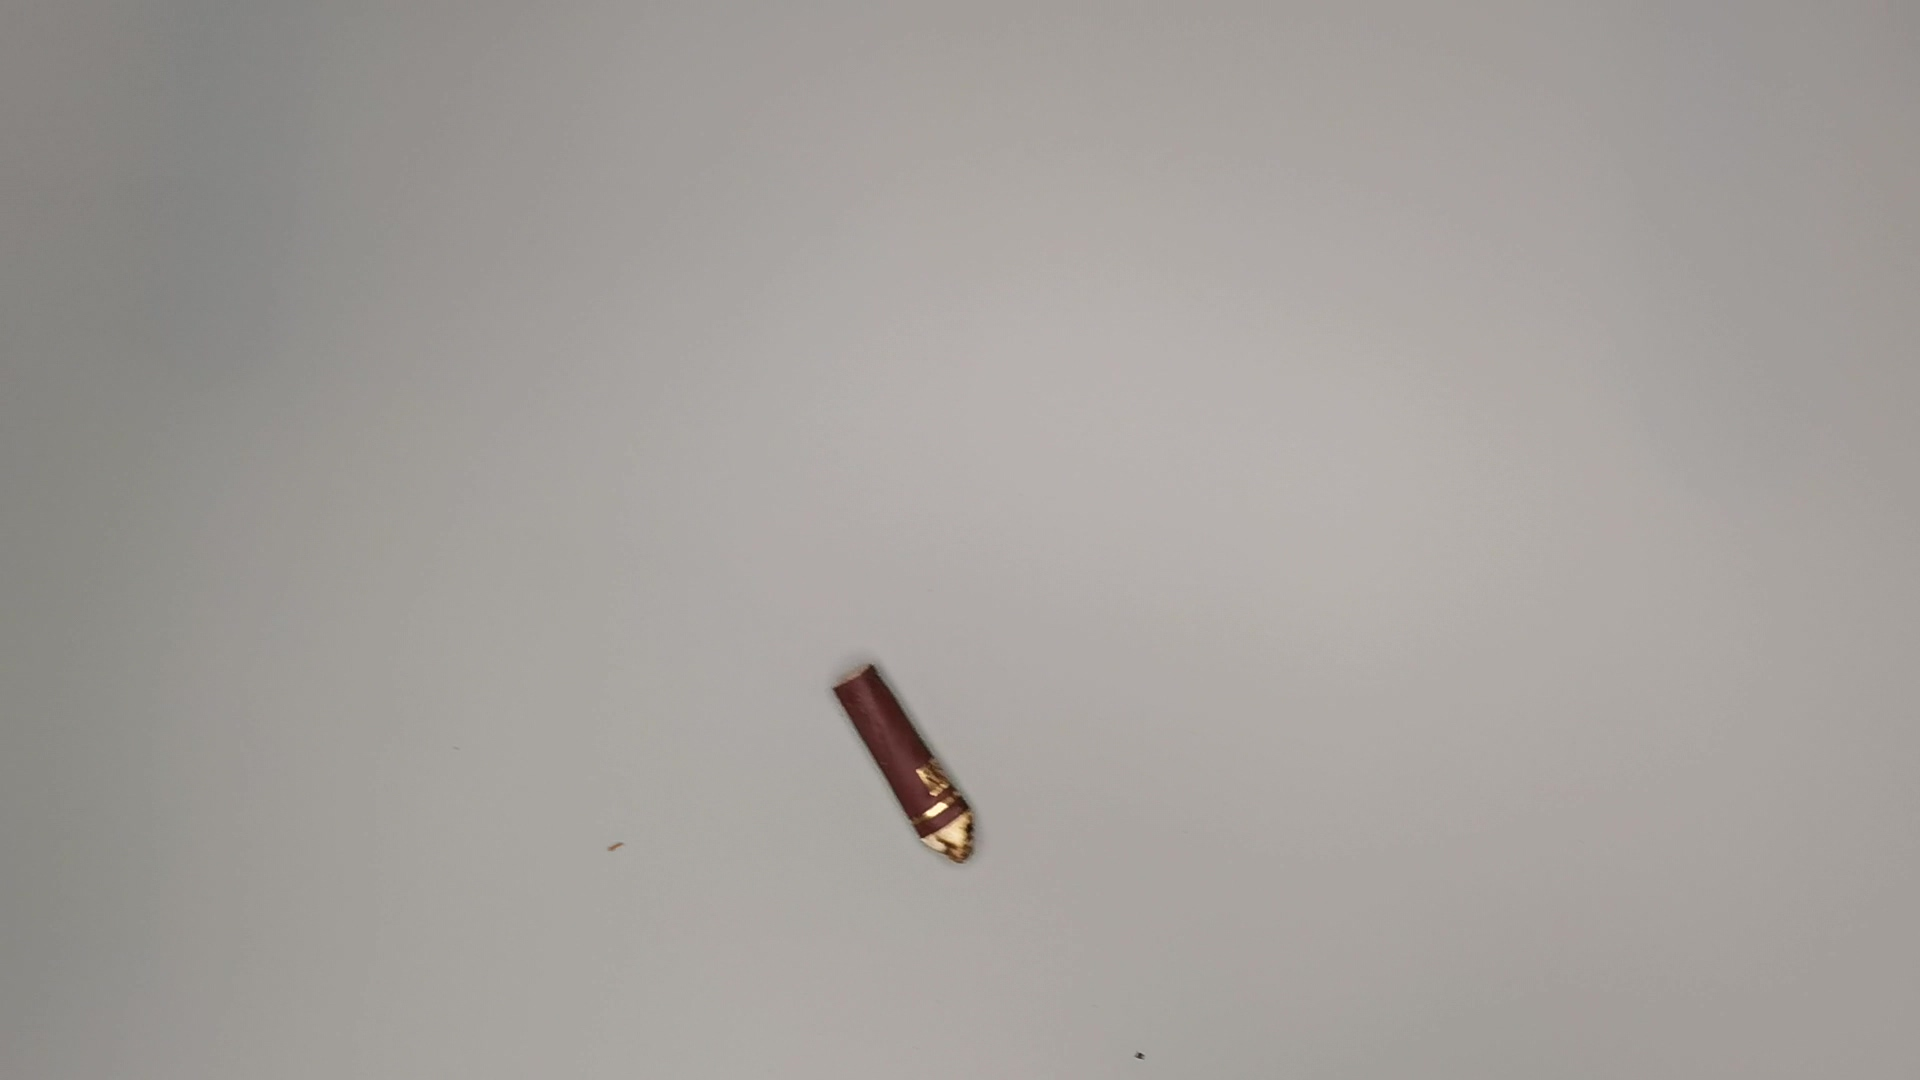cigarette: (823, 657, 989, 878)
